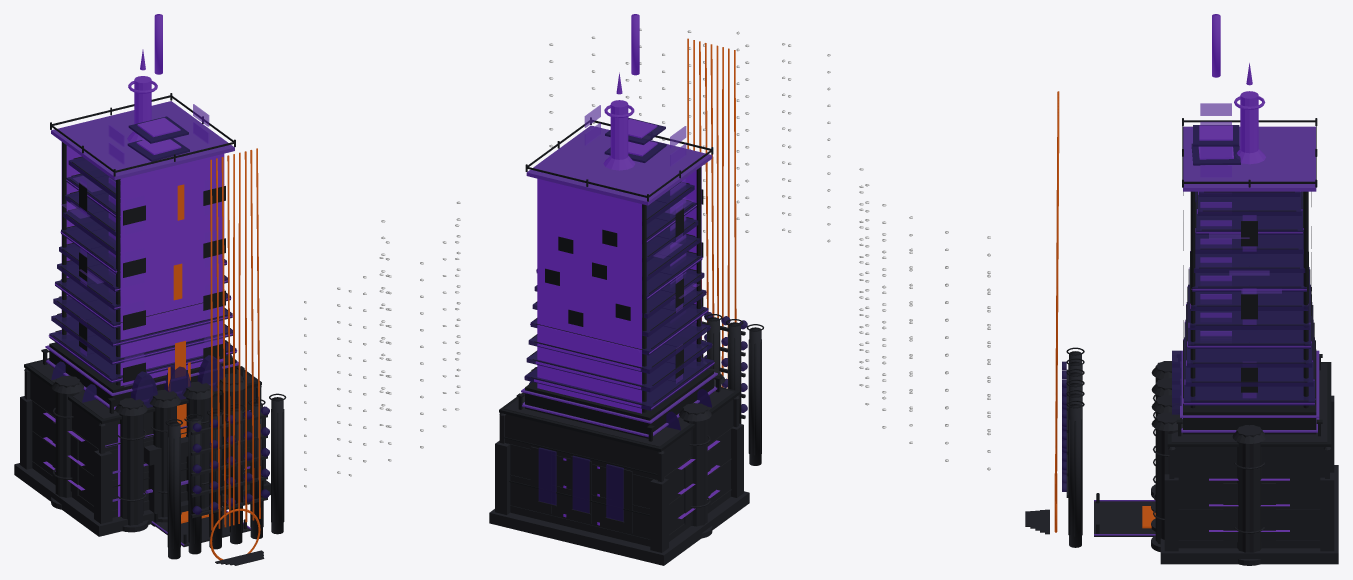
File: knowledgebase-ext-v2-draft-s74.glb
3 renders of one model, left to right at view 1: azimuth 30°, elevation 25°; view 2: azimuth 150°, elevation 25°; view 3: azimuth 270°, elevation 25°, orthographic. The views are drawn at different scales.
Parts seen in each view (by area): view 1: knowledgebase_s74_base_combined_mesh, knowledgebase_s74_emissive_combined_mesh, knowledgebase_s74_glass_combined_mesh, knowledgebase_s74_detail_combined_mesh, knowledgebase_s74_energy_combined_mesh, knowledgebase_s74_accent_combined_mesh, knowledgebase_s74_holo_combined_mesh; view 2: knowledgebase_s74_base_combined_mesh, knowledgebase_s74_emissive_combined_mesh, knowledgebase_s74_glass_combined_mesh, knowledgebase_s74_detail_combined_mesh, knowledgebase_s74_accent_combined_mesh, knowledgebase_s74_energy_combined_mesh, knowledgebase_s74_holo_combined_mesh; view 3: knowledgebase_s74_base_combined_mesh, knowledgebase_s74_glass_combined_mesh, knowledgebase_s74_detail_combined_mesh, knowledgebase_s74_accent_combined_mesh, knowledgebase_s74_emissive_combined_mesh, knowledgebase_s74_holo_combined_mesh, knowledgebase_s74_energy_combined_mesh.
Part boxes in pixels (<box>): knowledgebase_s74_base_combined_mesh: <box>14,340,283,565</box>; knowledgebase_s74_emissive_combined_mesh: <box>43,14,237,516</box>; knowledgebase_s74_glass_combined_mesh: <box>49,116,269,514</box>; knowledgebase_s74_detail_combined_mesh: <box>24,93,460,548</box>; knowledgebase_s74_energy_combined_mesh: <box>168,148,260,560</box>; knowledgebase_s74_accent_combined_mesh: <box>45,101,250,545</box>; knowledgebase_s74_holo_combined_mesh: <box>62,104,224,386</box>; knowledgebase_s74_base_combined_mesh: <box>489,317,761,565</box>; knowledgebase_s74_emissive_combined_mesh: <box>524,14,719,525</box>; knowledgebase_s74_glass_combined_mesh: <box>524,117,747,521</box>; knowledgebase_s74_detail_combined_mesh: <box>499,28,830,516</box>; knowledgebase_s74_accent_combined_mesh: <box>521,125,717,437</box>; knowledgebase_s74_energy_combined_mesh: <box>687,38,736,388</box>; knowledgebase_s74_holo_combined_mesh: <box>584,105,699,383</box>; knowledgebase_s74_base_combined_mesh: <box>1025,351,1338,565</box>; knowledgebase_s74_glass_combined_mesh: <box>1062,125,1314,491</box>; knowledgebase_s74_detail_combined_mesh: <box>859,118,1331,536</box>; knowledgebase_s74_accent_combined_mesh: <box>1094,126,1319,535</box>; knowledgebase_s74_emissive_combined_mesh: <box>1183,14,1315,531</box>; knowledgebase_s74_holo_combined_mesh: <box>1200,103,1281,397</box>; knowledgebase_s74_energy_combined_mesh: <box>1054,91,1155,532</box>.
Bounding box in the file's own units: 8.48 × 14.04 × 11.85.
